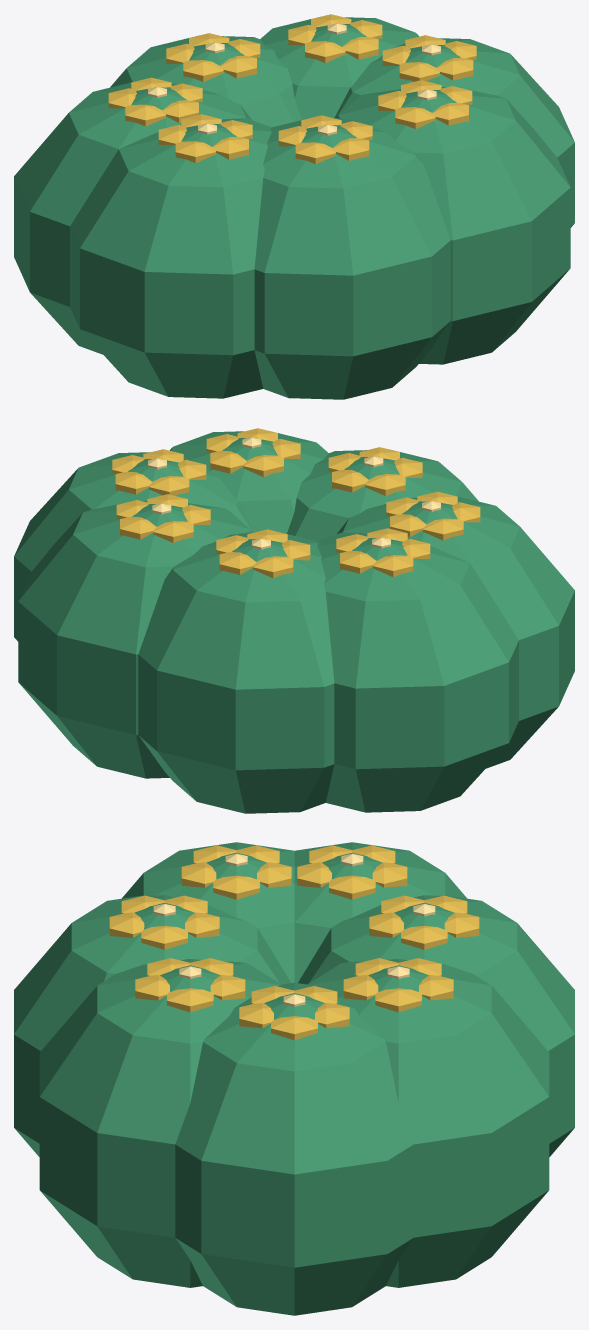
The model's file is PLAZA-023.glb.
3 renders of one model, top to bottom at view 1: azimuth 30°, elevation 25°; view 2: azimuth 150°, elevation 25°; view 3: azimuth 270°, elevation 25°, orthographic. The views are drawn at different scales.
Parts seen in each view (by area): view 1: PLAZA-023; view 2: PLAZA-023; view 3: PLAZA-023.
Part boxes in pixels (x1=…): PLAZA-023: x1=14, y1=14, x2=574, y2=399; PLAZA-023: x1=14, y1=428, x2=574, y2=813; PLAZA-023: x1=14, y1=842, x2=574, y2=1315.
Bounding box in the file's own units: 1.62 × 0.81 × 1.35.
